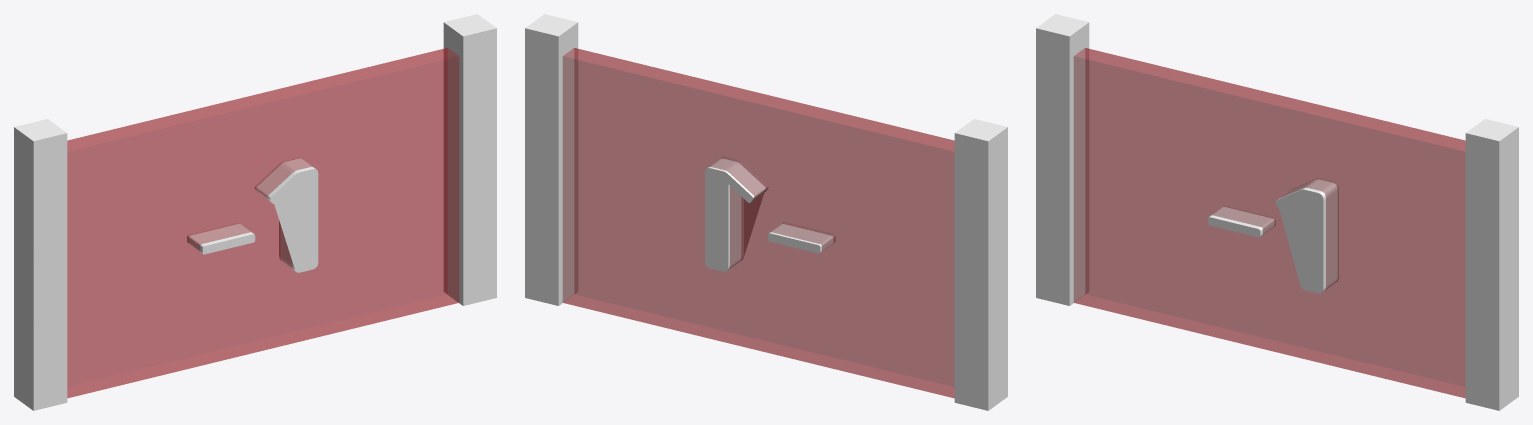
The picture shows the model from 3 angles, left to right: view 1: azimuth 30°, elevation 25°; view 2: azimuth 150°, elevation 25°; view 3: azimuth 330°, elevation 25°; orthographic projection.
Visible parts, largest first — view 1: Cube_3, Cube_1, Cube_2, 1_7, __4; view 2: Cube_3, Cube_1, Cube_2, 1_7, __4; view 3: Cube_3, Cube_2, Cube_1, 1_7, __4.
Part boxes in pixels (x1,y1,x2,y2): Cube_3: (67,48,458,397); Cube_1: (14,119,67,410); Cube_2: (443,14,496,305); 1_7: (255,158,318,272); __4: (187,223,255,254); Cube_3: (563,48,954,397); Cube_1: (954,119,1007,410); Cube_2: (525,14,578,305); 1_7: (705,157,768,271); __4: (768,222,835,253); Cube_3: (1074,48,1465,397); Cube_2: (1465,119,1518,410); Cube_1: (1036,14,1089,305); 1_7: (1275,178,1338,293); __4: (1208,206,1275,237).
Size of the model in its own units: 393 by 219 by 28.63.
